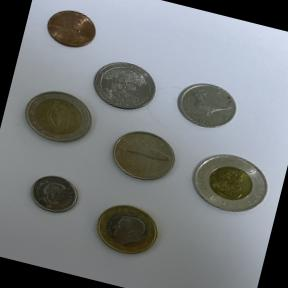coin: (182, 142, 278, 224), (13, 82, 103, 154), (102, 121, 186, 192), (87, 194, 167, 265), (84, 52, 164, 120), (22, 165, 86, 223), (41, 3, 101, 54)
